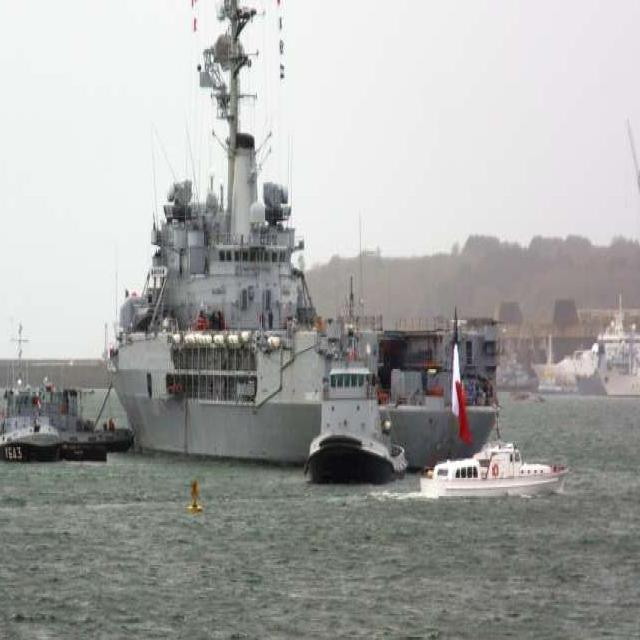Portanaves: (99, 1, 513, 479)
